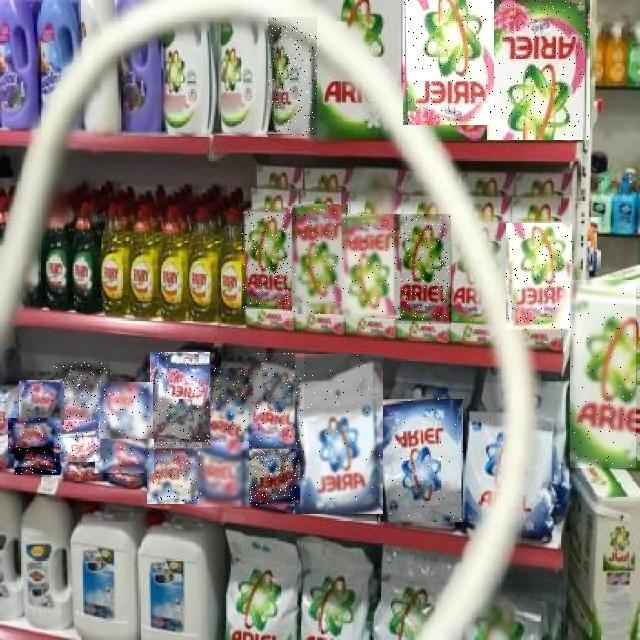Detergent: (487, 0, 590, 140), (295, 354, 383, 514), (570, 280, 636, 468), (403, 0, 494, 125), (380, 400, 463, 526), (506, 224, 572, 332), (394, 214, 451, 324), (292, 204, 348, 314), (342, 214, 400, 318), (268, 18, 317, 138), (150, 352, 210, 448), (251, 353, 305, 455), (242, 209, 296, 309), (196, 368, 252, 460), (55, 362, 111, 433), (99, 383, 153, 449), (196, 442, 249, 507), (148, 442, 202, 504), (242, 450, 300, 506), (19, 380, 64, 425), (95, 439, 154, 473), (54, 421, 100, 463), (8, 418, 61, 454), (14, 447, 60, 475)
